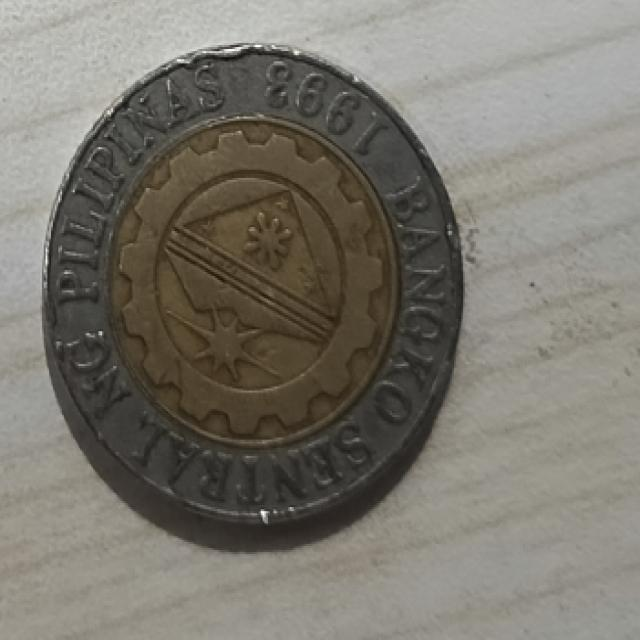10_peso: (44, 47, 459, 523)
